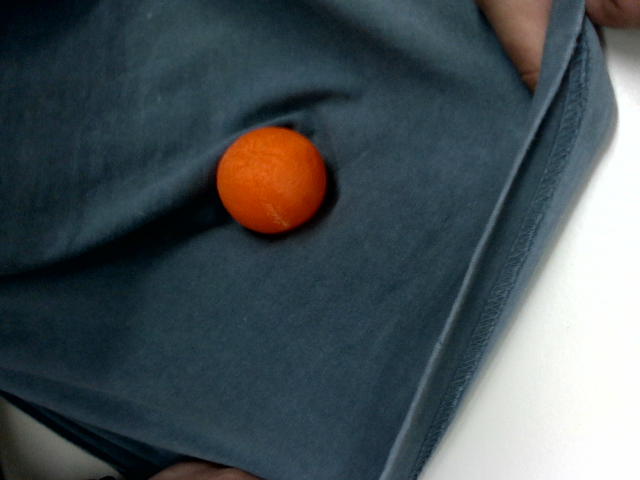orange: (196, 104, 348, 256)
